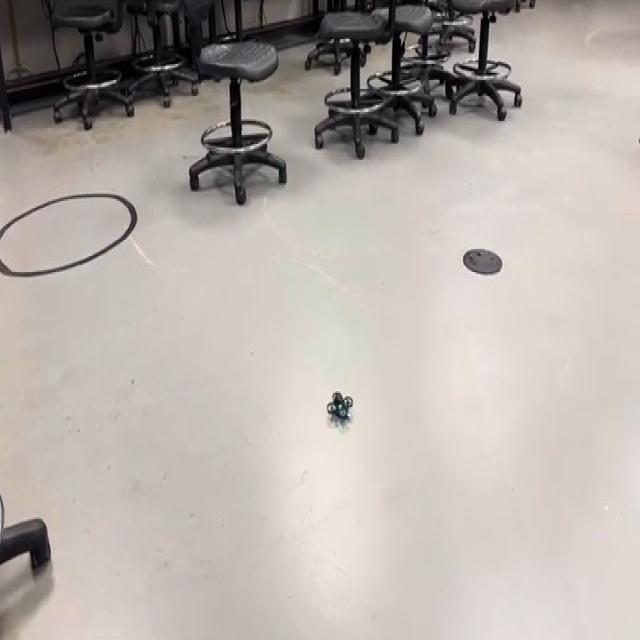drone: (320, 372, 361, 436)
